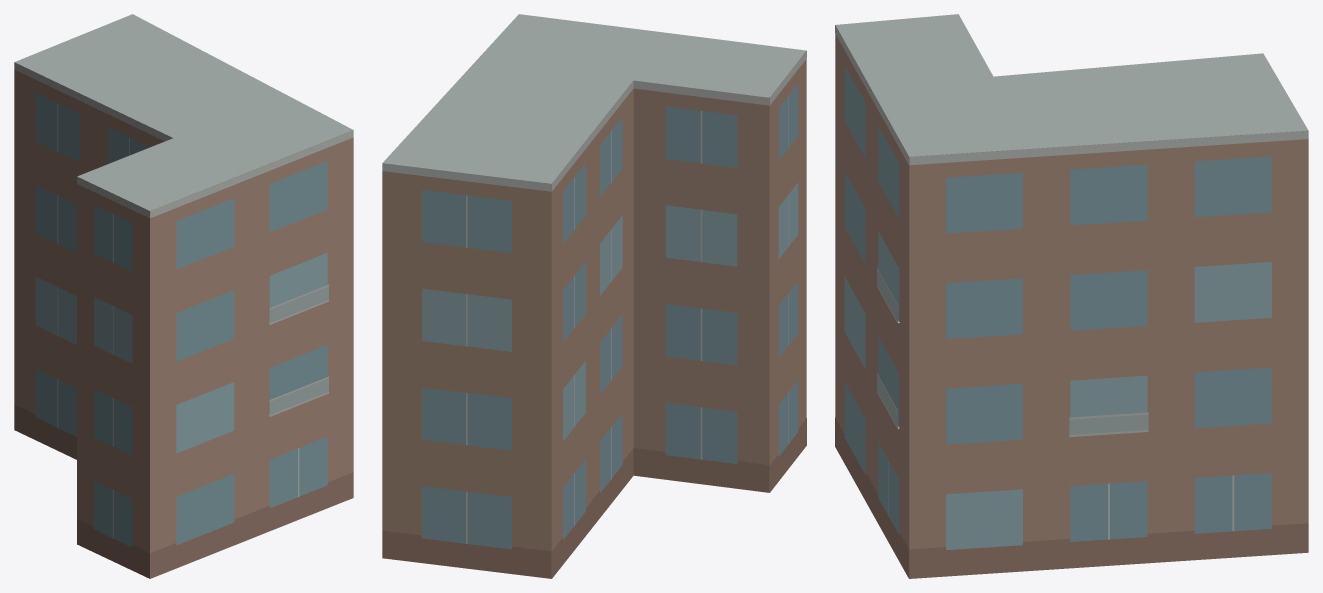
Rendered from survey-upis-32504539.glb.
The picture shows the model from 3 angles, left to right: view 1: azimuth 30°, elevation 25°; view 2: azimuth 150°, elevation 25°; view 3: azimuth 270°, elevation 25°; orthographic projection. The views are drawn at different scales.
Parts seen in each view (by area): view 1: survey-upis-32504539.tmp; view 2: survey-upis-32504539.tmp; view 3: survey-upis-32504539.tmp.
Boxes of the visible parts, x1,y1,x2,y2 form: survey-upis-32504539.tmp: (14, 14, 353, 578); survey-upis-32504539.tmp: (382, 14, 806, 578); survey-upis-32504539.tmp: (835, 14, 1308, 578).
Size of the model in its own units: 8.87 by 12.2 by 12.41.
